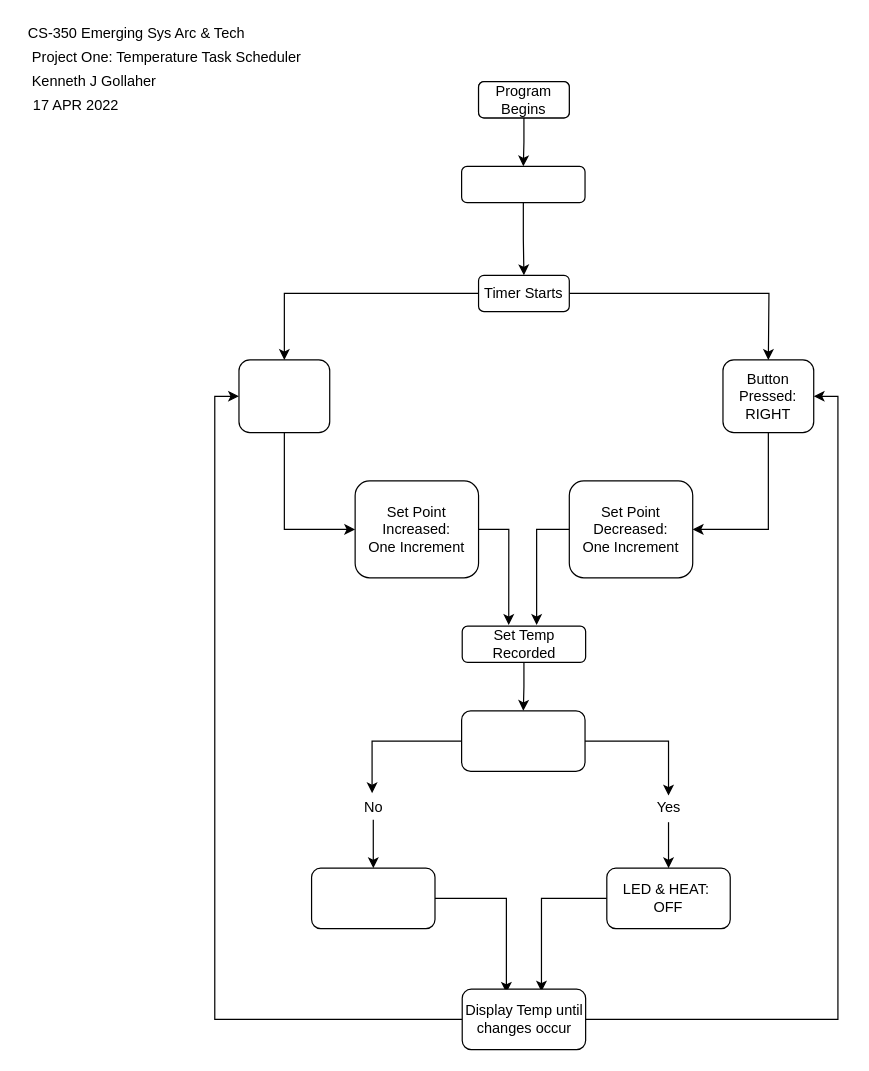
This 869x1071 diagram has some shape labels left out. Here are the shapes that lost their labels. From the top down, the centre of each, then its label:
At point (522, 184): "Reads Current Temp".
At point (284, 396): "Button Pressed: LEFT".
At point (522, 740): "Temperature >= Set Point".
At point (372, 898): "LED & HEAT: ON".
